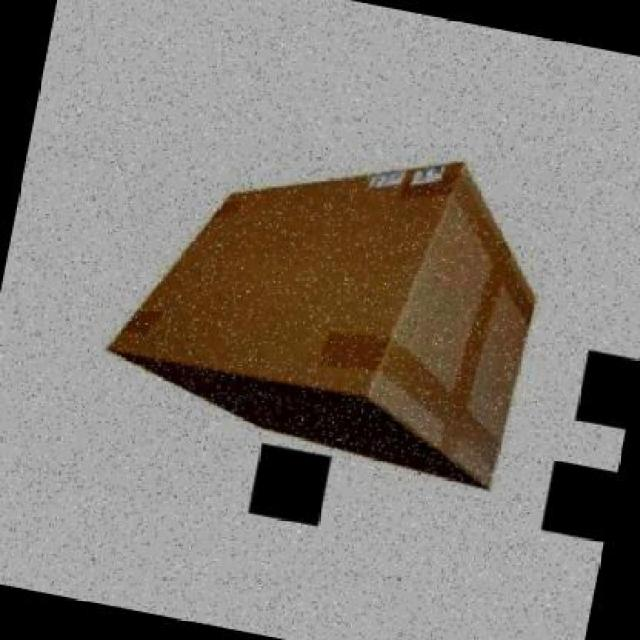box: (88, 91, 569, 508)
